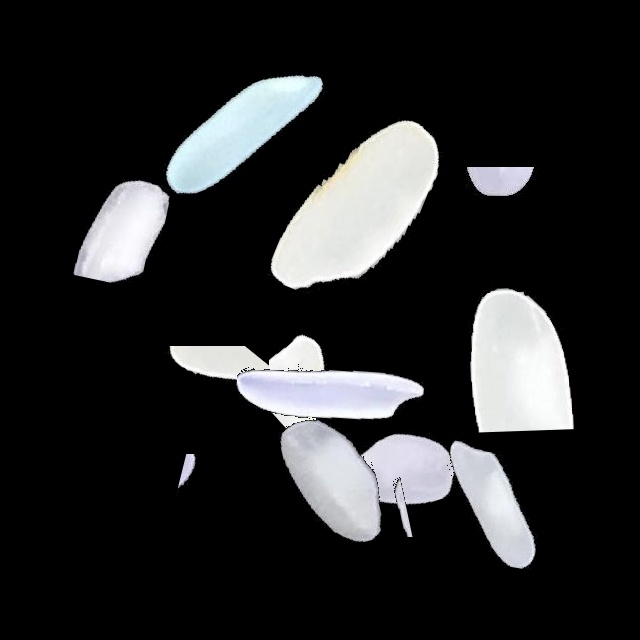Broken: (5, 114, 255, 285), (440, 227, 598, 477), (200, 361, 450, 517), (99, 346, 349, 461), (269, 263, 377, 513), (166, 212, 266, 462), (452, 89, 547, 339), (93, 454, 343, 538), (237, 456, 487, 537), (330, 250, 409, 500)
Full: (121, 6, 371, 256), (276, 348, 526, 598), (209, 357, 459, 607), (235, 81, 485, 331), (365, 381, 615, 631)
